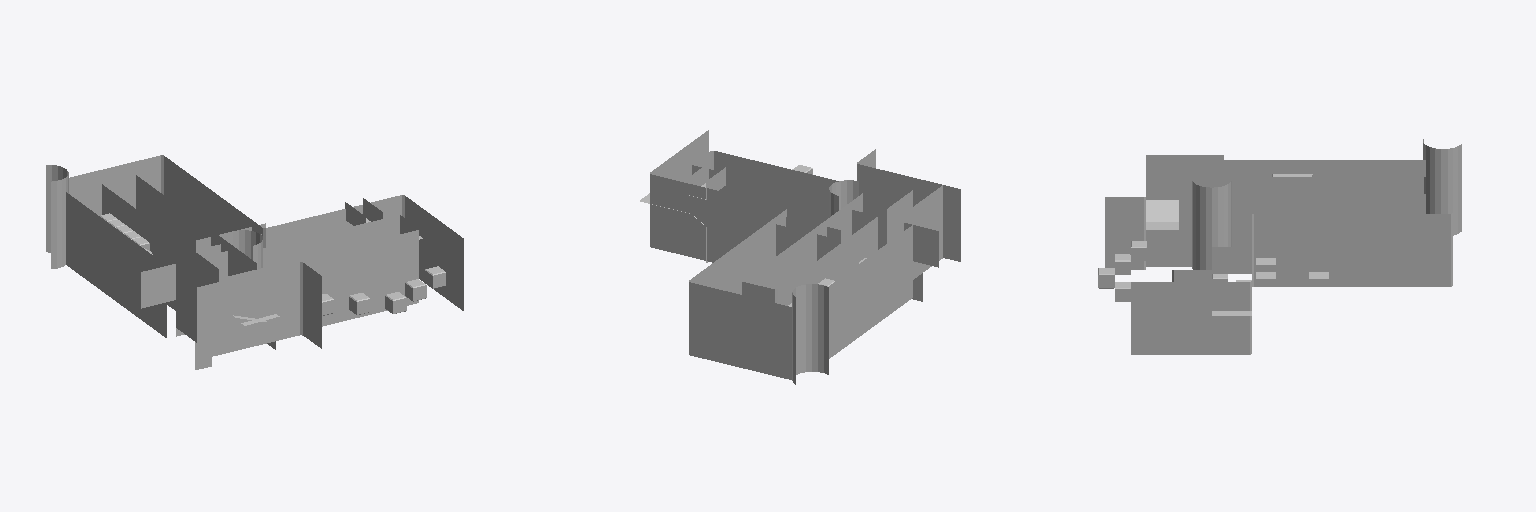
3 views of the same model, side by side, from view 1: azimuth 30°, elevation 25°; view 2: azimuth 150°, elevation 25°; view 3: azimuth 270°, elevation 25° (orthographic).
Visible parts, largest first — view 1: level1_mesh; view 2: level1_mesh; view 3: level1_mesh.
Part boxes in pixels (left/top/right/bottom): level1_mesh: left=46, top=155, right=463, bottom=369; level1_mesh: left=640, top=130, right=960, bottom=384; level1_mesh: left=1098, top=139, right=1461, bottom=354.
Bounding box in the file's own units: 8193 × 2949 × 9002.